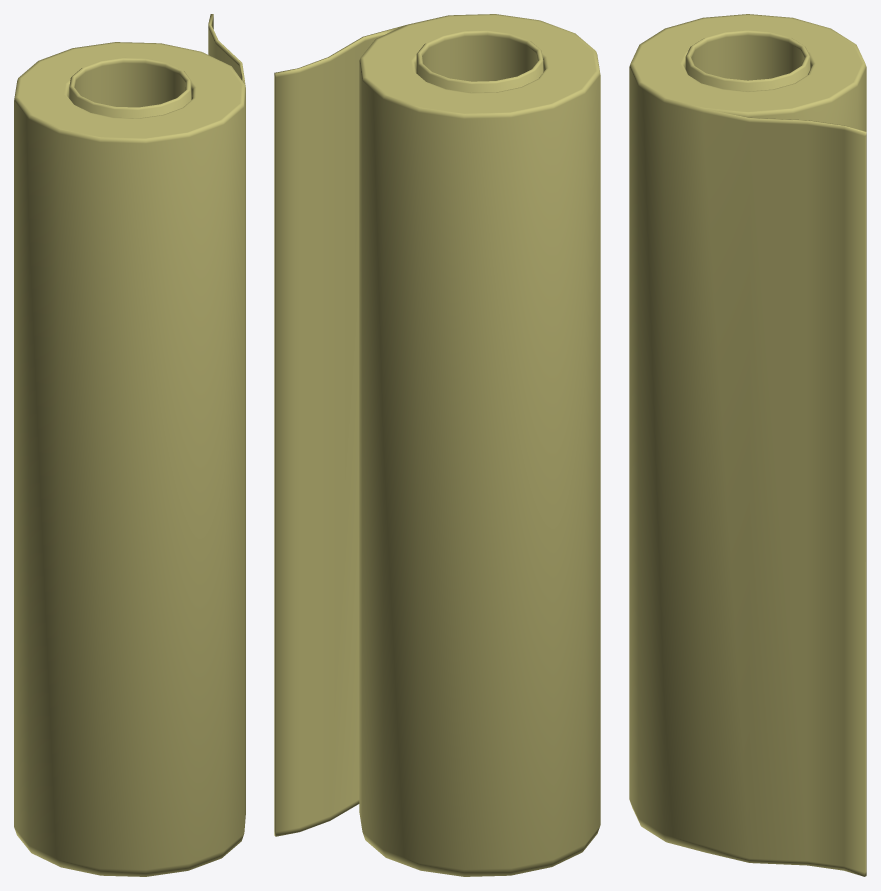
The model's file is Paper_Towel_1.obj.
3 views of the same model, side by side, from view 1: azimuth 30°, elevation 25°; view 2: azimuth 150°, elevation 25°; view 3: azimuth 270°, elevation 25° (orthographic). The views are drawn at different scales.
Bounding box in the file's own units: 0.0721 × 0.2138 × 0.0605.
